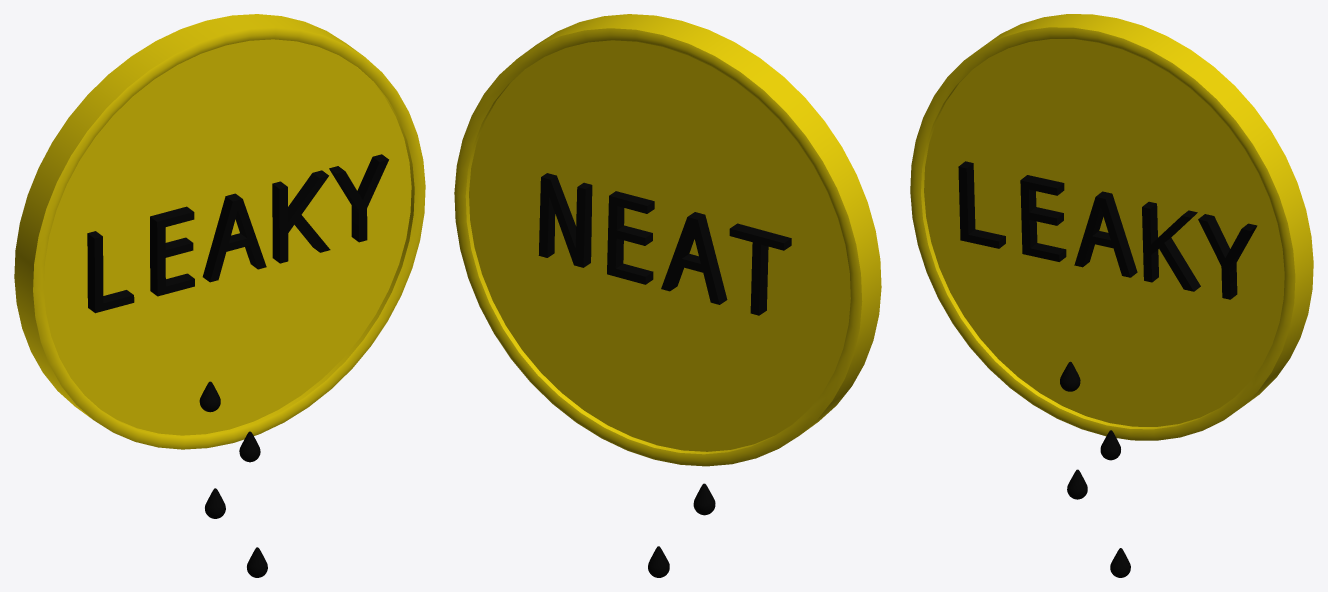
The model's file is LEAKY_COIN_LAST_ATTEMPT.fbx.
3 renders of one model, left to right at view 1: azimuth 30°, elevation 25°; view 2: azimuth 150°, elevation 25°; view 3: azimuth 330°, elevation 25°, orthographic. The views are drawn at different scales.
Parts seen in each view (by area): view 1: NEAT_COIN, LEAKY_TEXT; view 2: NEAT_COIN, NEAT_TEXT; view 3: NEAT_COIN, LEAKY_TEXT.
Boxes of the visible parts, <box> form: NEAT_COIN: <box>14,14,425,449</box>; LEAKY_TEXT: <box>87,154,388,313</box>; NEAT_COIN: <box>454,14,881,466</box>; NEAT_TEXT: <box>538,173,791,315</box>; NEAT_COIN: <box>910,14,1313,440</box>; LEAKY_TEXT: <box>958,161,1257,299</box>.
Size of the model in its own units: 3 by 3.99 by 0.486.
